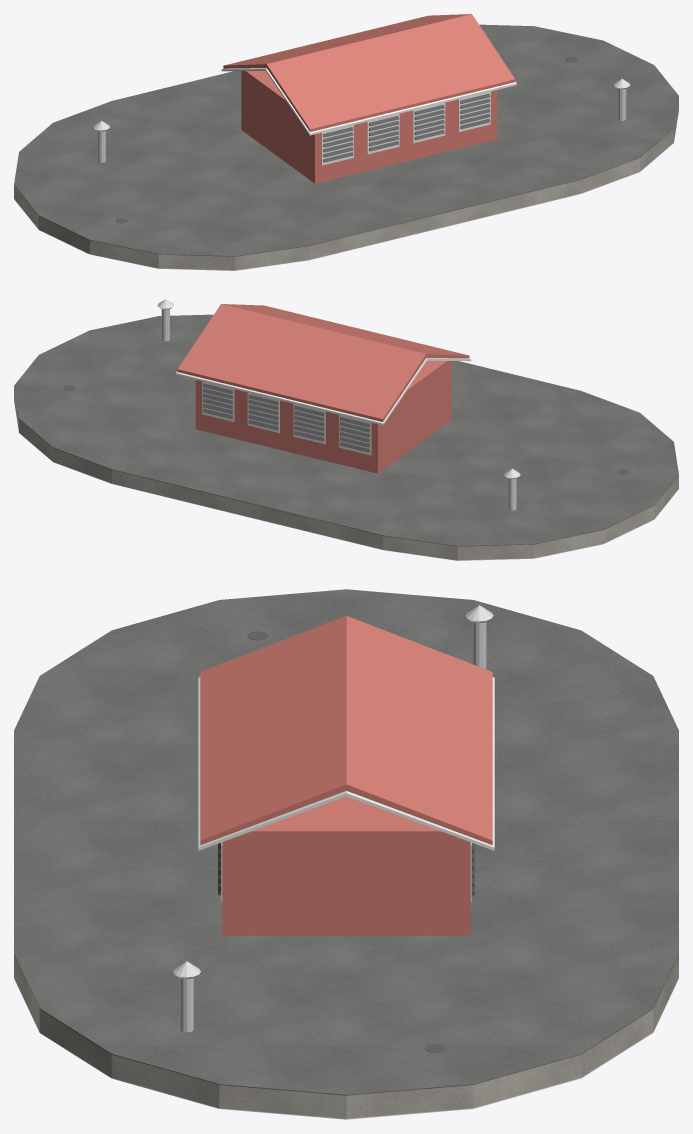
Rendered from roof.glb.
The picture shows the model from 3 angles, top to bottom: view 1: azimuth 30°, elevation 25°; view 2: azimuth 150°, elevation 25°; view 3: azimuth 270°, elevation 25°; orthographic projection. The views are drawn at different scales.
Parts seen in each view (by area): view 1: roof_membrane, roof_roof_r, roof_concrete, roof_paint_w, roof_dark, roof_metal, roof_ceil; view 2: roof_membrane, roof_roof_r, roof_concrete, roof_dark, roof_paint_w, roof_metal, roof_ceil; view 3: roof_membrane, roof_roof_r, roof_concrete, roof_paint_w, roof_metal, roof_ceil.
Part boxes in pixels (bbox=[...]): roof_membrane: bbox=[14, 24, 678, 256]; roof_roof_r: bbox=[223, 14, 515, 183]; roof_concrete: bbox=[14, 97, 678, 270]; roof_paint_w: bbox=[221, 68, 516, 165]; roof_dark: bbox=[115, 56, 577, 223]; roof_metal: bbox=[93, 79, 630, 162]; roof_ceil: bbox=[14, 113, 678, 270]; roof_membrane: bbox=[14, 314, 678, 546]; roof_roof_r: bbox=[177, 304, 469, 473]; roof_concrete: bbox=[14, 387, 678, 560]; roof_dark: bbox=[63, 383, 629, 474]; roof_paint_w: bbox=[176, 358, 471, 455]; roof_metal: bbox=[157, 299, 520, 510]; roof_ceil: bbox=[14, 401, 678, 560]; roof_membrane: bbox=[14, 589, 678, 1095]; roof_roof_r: bbox=[200, 616, 492, 935]; roof_concrete: bbox=[14, 955, 678, 1118]; roof_paint_w: bbox=[198, 677, 494, 901]; roof_metal: bbox=[173, 605, 493, 1032]; roof_ceil: bbox=[14, 978, 678, 1119].
Bounding box in the file's own units: 13.49 × 2.31 × 7.5.
Materials: 7 (2 with a texture image).
